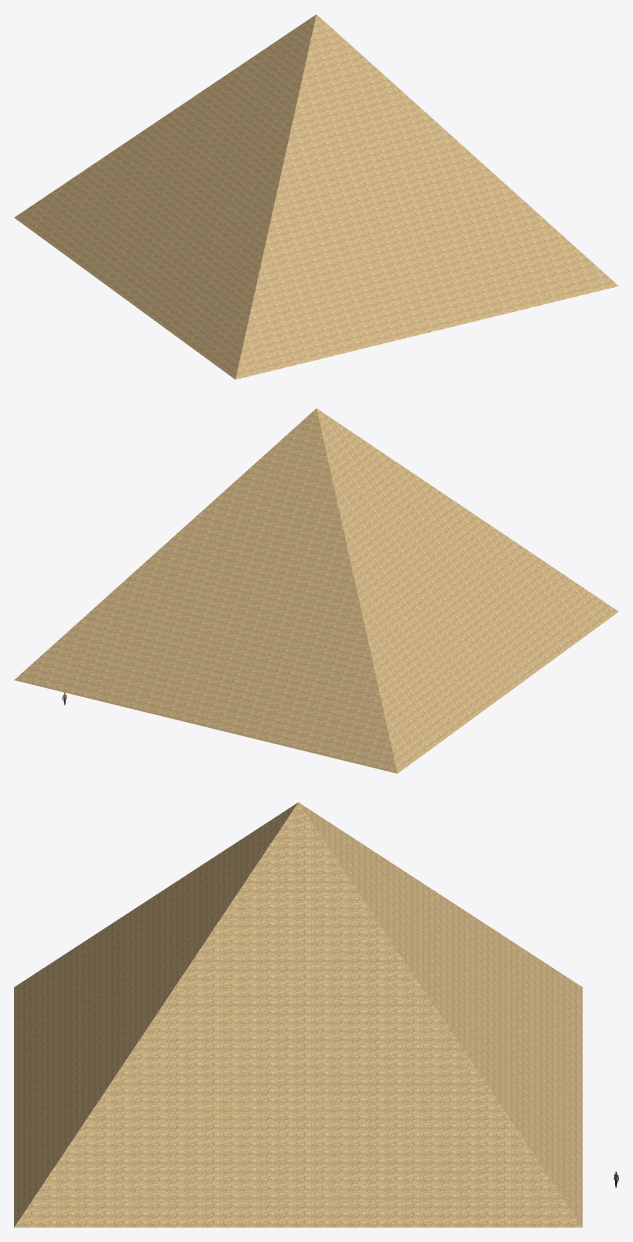
The picture shows the model from 3 angles, top to bottom: view 1: azimuth 30°, elevation 25°; view 2: azimuth 150°, elevation 25°; view 3: azimuth 270°, elevation 25°; orthographic projection. The views are drawn at different scales.
Visible parts, largest first — view 1: SketchUp; view 2: SketchUp; view 3: SketchUp.
Part boxes in pixels (x1,y1,x2,y2): SketchUp: (14, 14, 618, 379); SketchUp: (14, 408, 618, 773); SketchUp: (14, 802, 582, 1227).
Bounding box in the file's own units: 2251 × 2394 × 1333.
10 materials, 1 textured.
